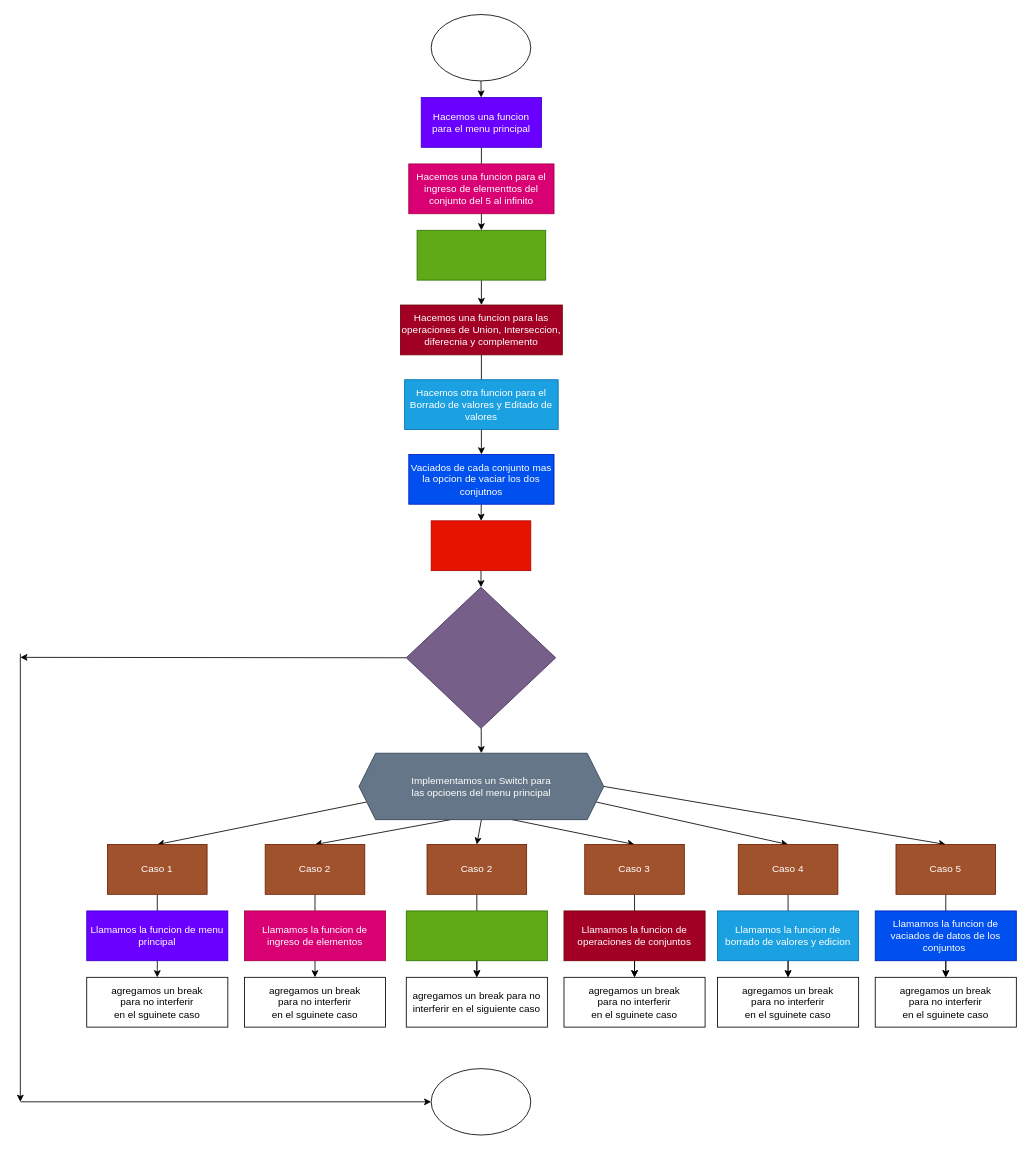
Some shapes in this 1031 by 1150 pixel diagram are drawn without their labels. Here are the shapes that lost their labels. From the top down, the box of each, then its label:
(430, 14, 531, 81): inicio
(416, 229, 546, 280): Hacemos un funcion para mostrar los conjuntos declarados por el usuario.
(430, 520, 531, 571): Empezamos el programa
(405, 586, 556, 728): Implementamos un do-while
(405, 910, 547, 961): Llamamos la funcion de mostrar los conjuntos creados por el usuario.
(430, 1068, 531, 1135): Fin del programa
